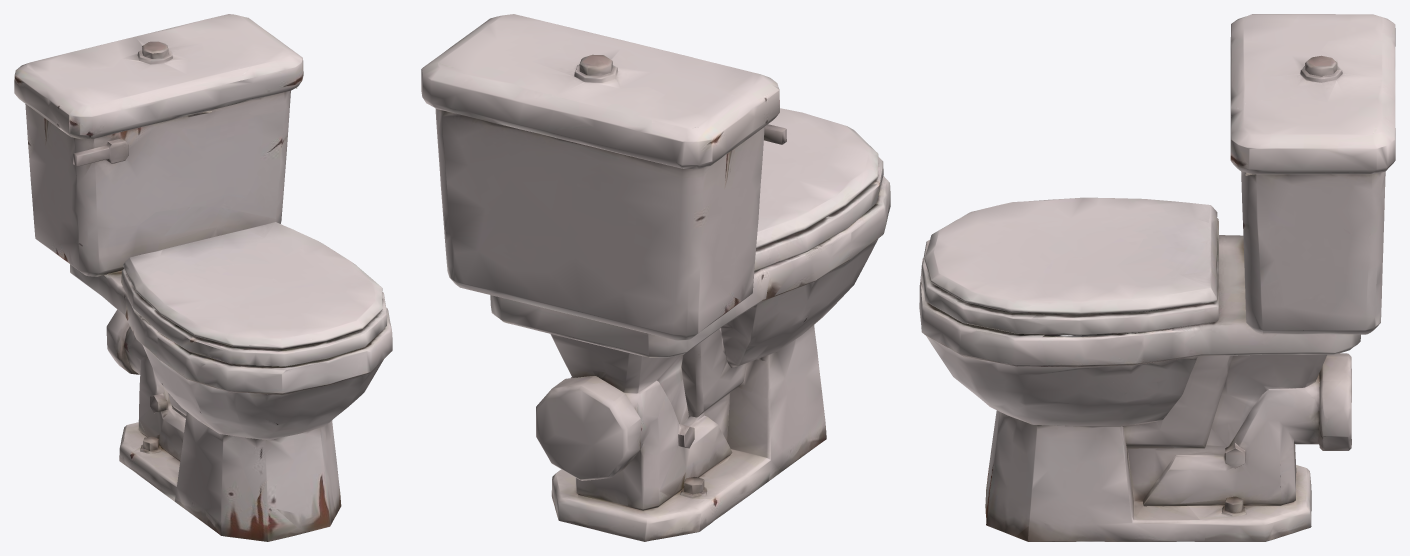
The model's file is toilet_fayansovyy_so_smyvom_idle.glb.
3 views of the same model, side by side, from view 1: azimuth 30°, elevation 25°; view 2: azimuth 150°, elevation 25°; view 3: azimuth 270°, elevation 25° (orthographic). The views are drawn at different scales.
Visible parts, largest first — view 1: tripo_node_c4a68143-177d-4ee1-ba08-294e1b2f9f19; view 2: tripo_node_c4a68143-177d-4ee1-ba08-294e1b2f9f19; view 3: tripo_node_c4a68143-177d-4ee1-ba08-294e1b2f9f19.
Boxes of the visible parts, <box> form: tripo_node_c4a68143-177d-4ee1-ba08-294e1b2f9f19: <box>14,14,392,541</box>; tripo_node_c4a68143-177d-4ee1-ba08-294e1b2f9f19: <box>421,14,890,541</box>; tripo_node_c4a68143-177d-4ee1-ba08-294e1b2f9f19: <box>919,14,1395,541</box>.
Size of the model in its own units: 0.481 by 0.7499 by 0.724.
Materials: 1 (1 with a texture image).
